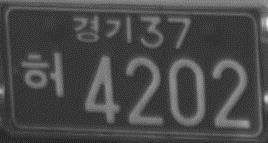0: (167, 58, 206, 129)
2: (207, 58, 253, 131), (124, 57, 163, 128)
3: (139, 14, 164, 50)
4: (82, 55, 122, 124)
7: (166, 16, 191, 52)
경기_O: (72, 14, 132, 45)
허: (20, 50, 65, 98)
